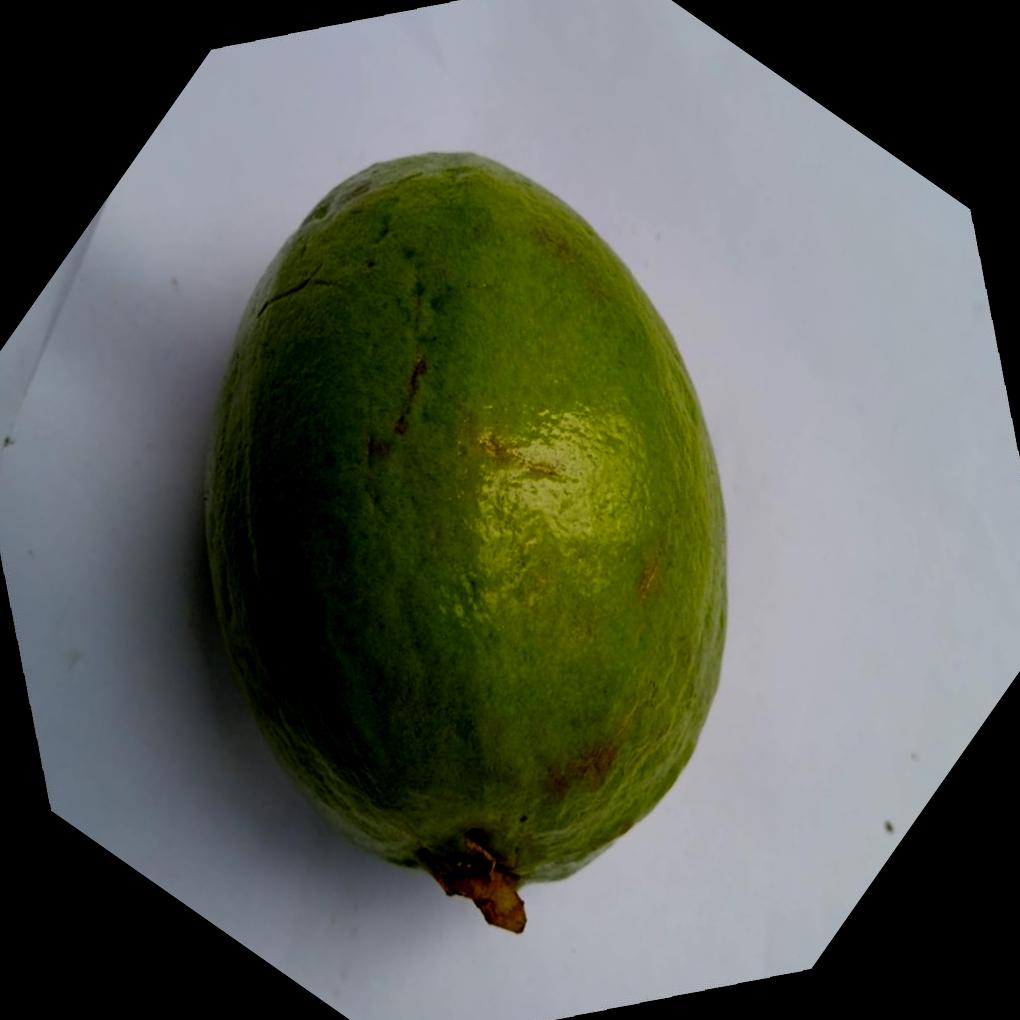FreshGuava: (198, 143, 729, 935)
